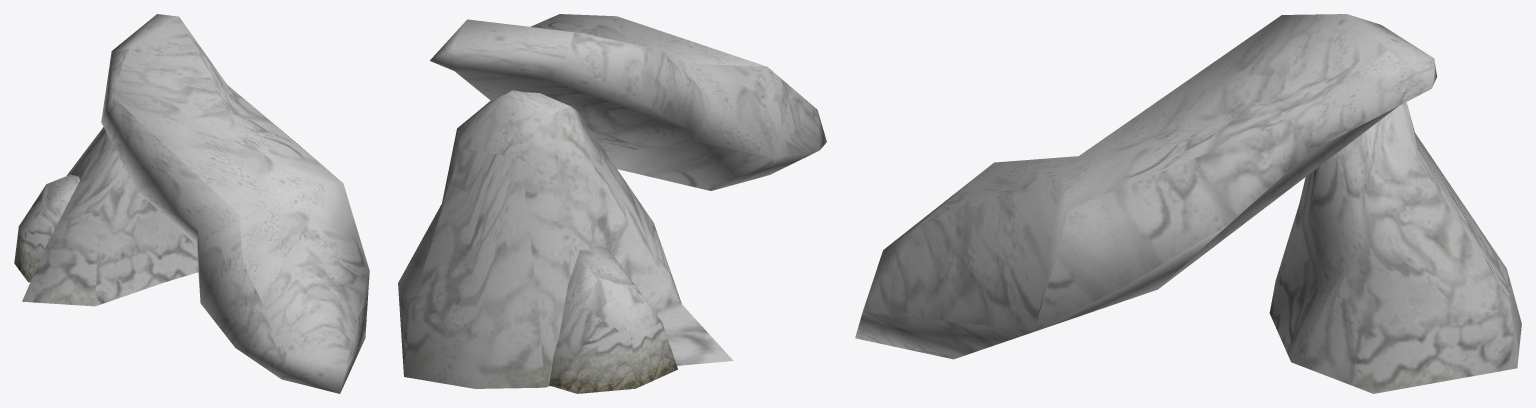
File: general_obj_bigstonegate02_lod_01.fbx
3 views of the same model, side by side, from view 1: azimuth 30°, elevation 25°; view 2: azimuth 150°, elevation 25°; view 3: azimuth 270°, elevation 25° (orthographic). The views are drawn at different scales.
Parts seen in each view (by area): view 1: Sphere01; view 2: Sphere01; view 3: Sphere01.
Boxes of the visible parts, x1,y1,x2,y2 form: Sphere01: (14,14,369,393); Sphere01: (398,14,826,393); Sphere01: (855,14,1521,393).
Bounding box in the file's own units: 30.34 × 26.72 × 50.68.
